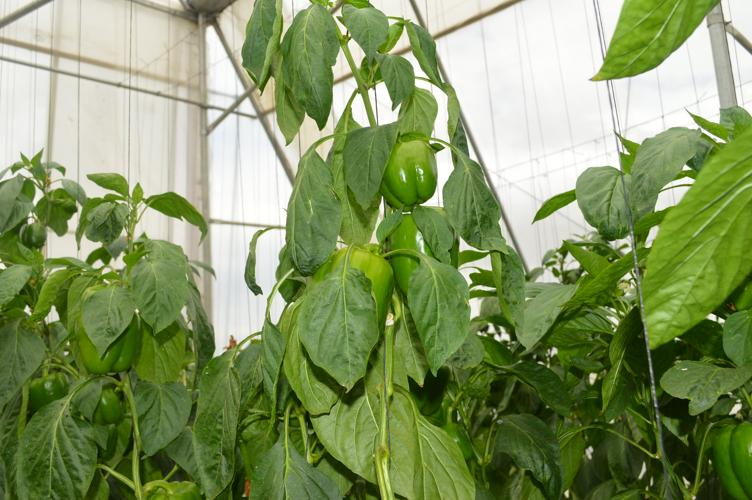BellPepper: (385, 210, 456, 290), (66, 311, 148, 375), (316, 251, 391, 317), (373, 141, 435, 207), (20, 378, 62, 408)
